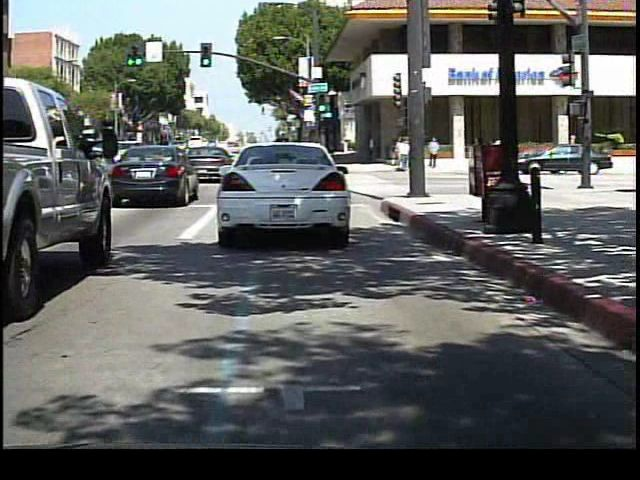person: (489, 135, 510, 173), (396, 136, 411, 177), (426, 135, 443, 170)
